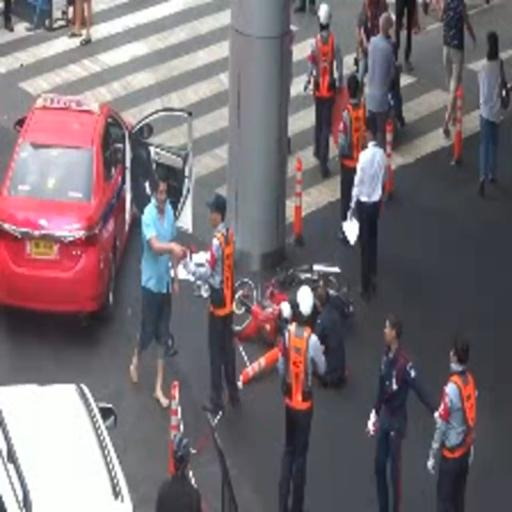nao-violencia: (122, 166, 250, 418), (361, 299, 486, 511)
